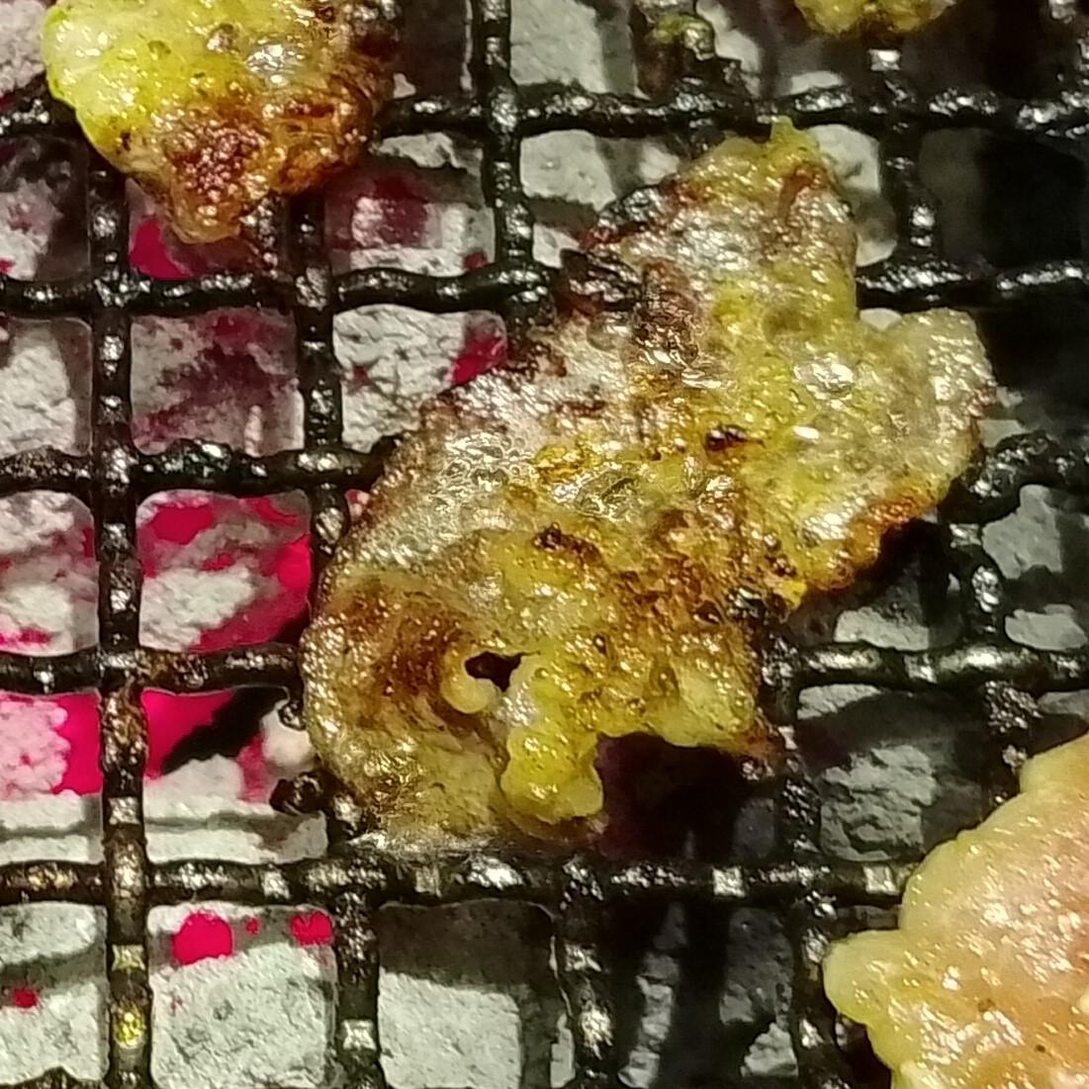Overcooked: (299, 122, 1001, 855), (38, 0, 400, 243)
Undercooked: (824, 732, 1088, 1088)
